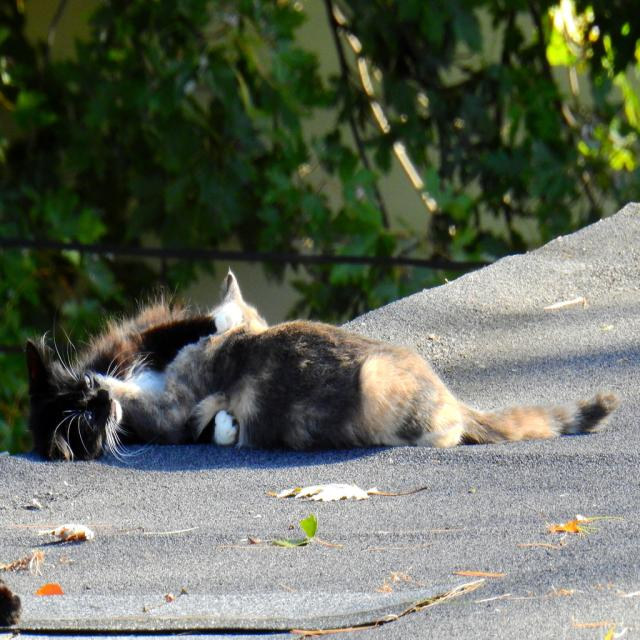Cat: (168, 267, 614, 448), (22, 285, 238, 466)
